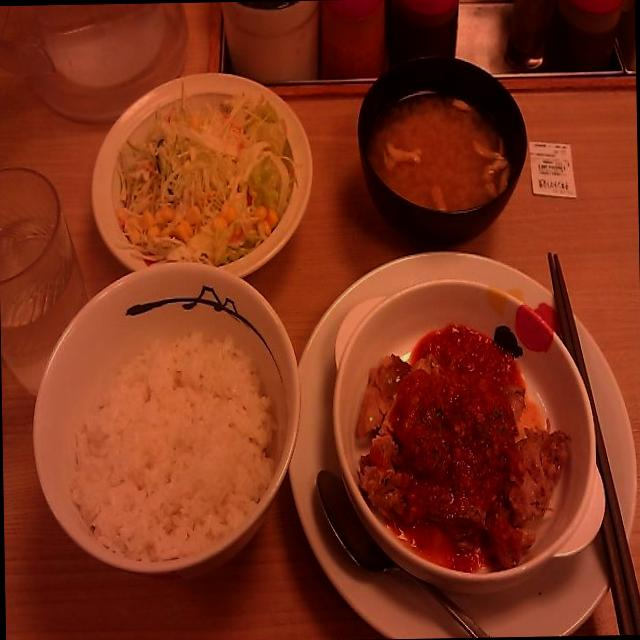Rice: (57, 314, 283, 570)
